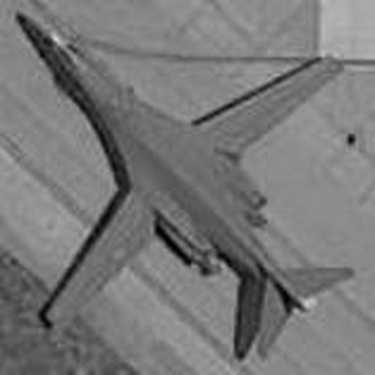airplane: (6, 3, 359, 366)
